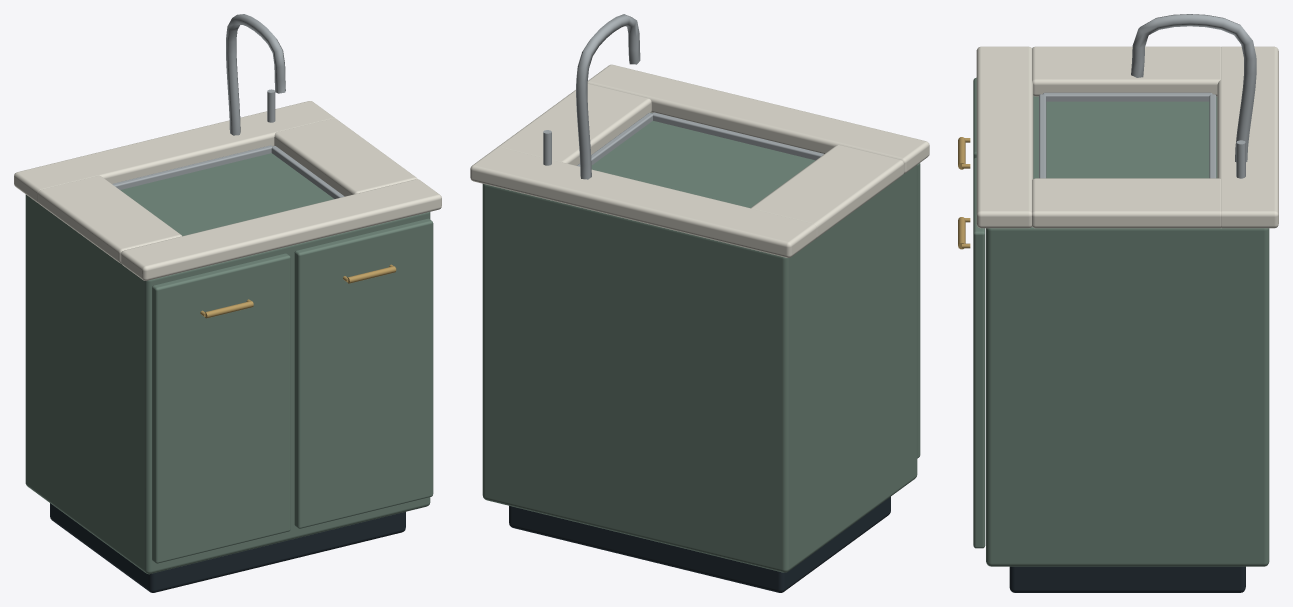
File: officeSinkUnit.glb
The picture shows the model from 3 angles, left to right: view 1: azimuth 30°, elevation 25°; view 2: azimuth 150°, elevation 25°; view 3: azimuth 270°, elevation 25°; orthographic projection. The views are drawn at different scales.
Size of the model in its own units: 0.84 by 1.26 by 0.679.
